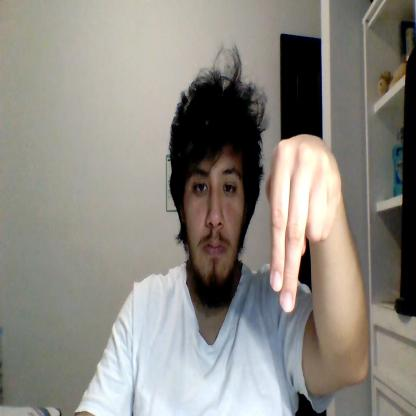N: (266, 134, 340, 313)
